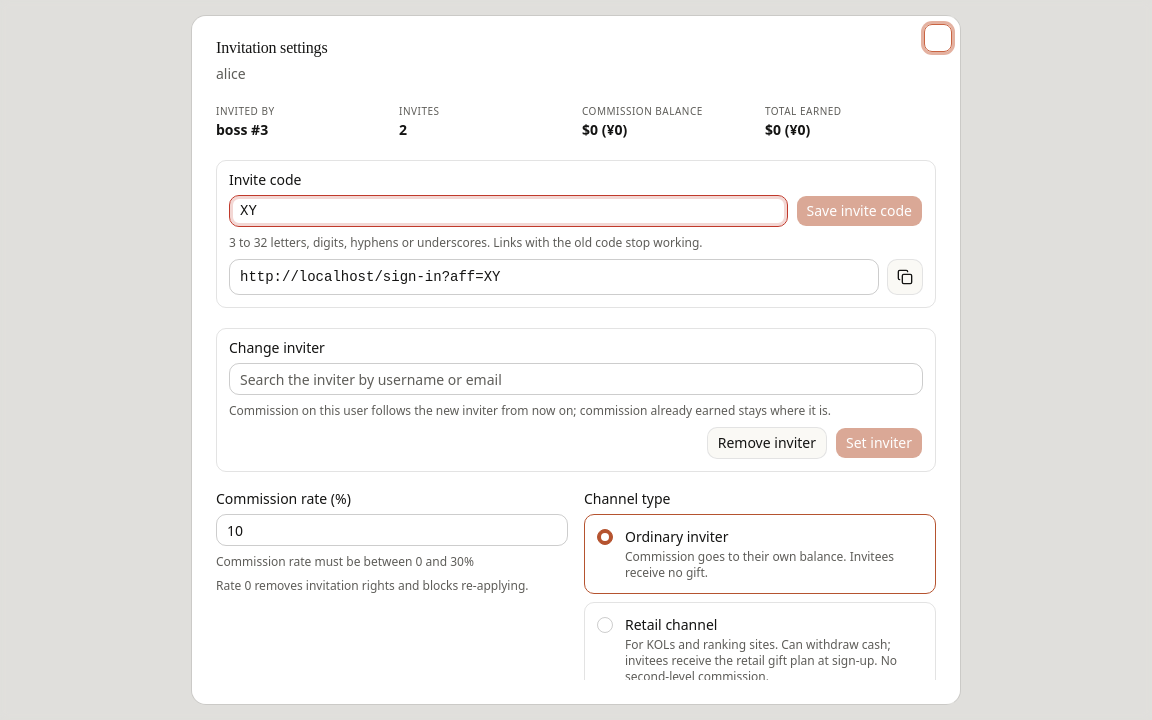
Test: finds a new inviter by email and binds the user to them
Expected: the button "Set inviter" is disabled, [835, 427, 923, 459]
Step 1. Type "carol@example" into the field labelled "Change inviter" → {"x": 576, "y": 379}, box [229, 363, 923, 395]
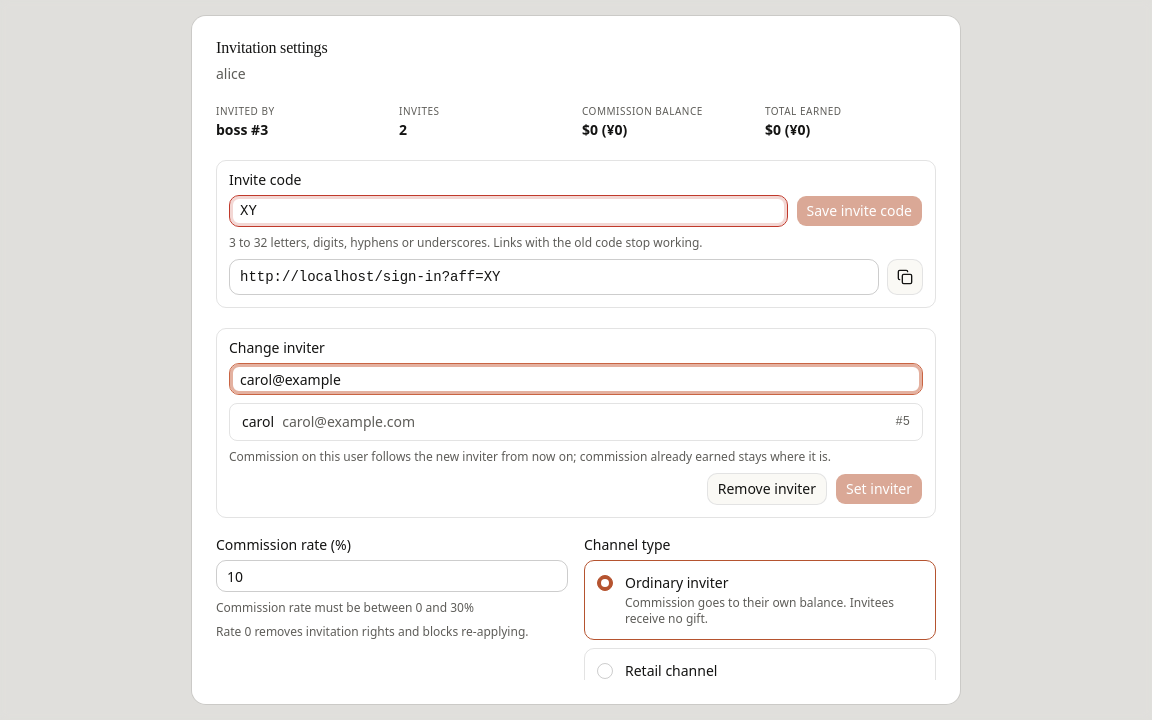
Step 2. Click the button "carol" → {"x": 258, "y": 422}, box [230, 404, 922, 440]
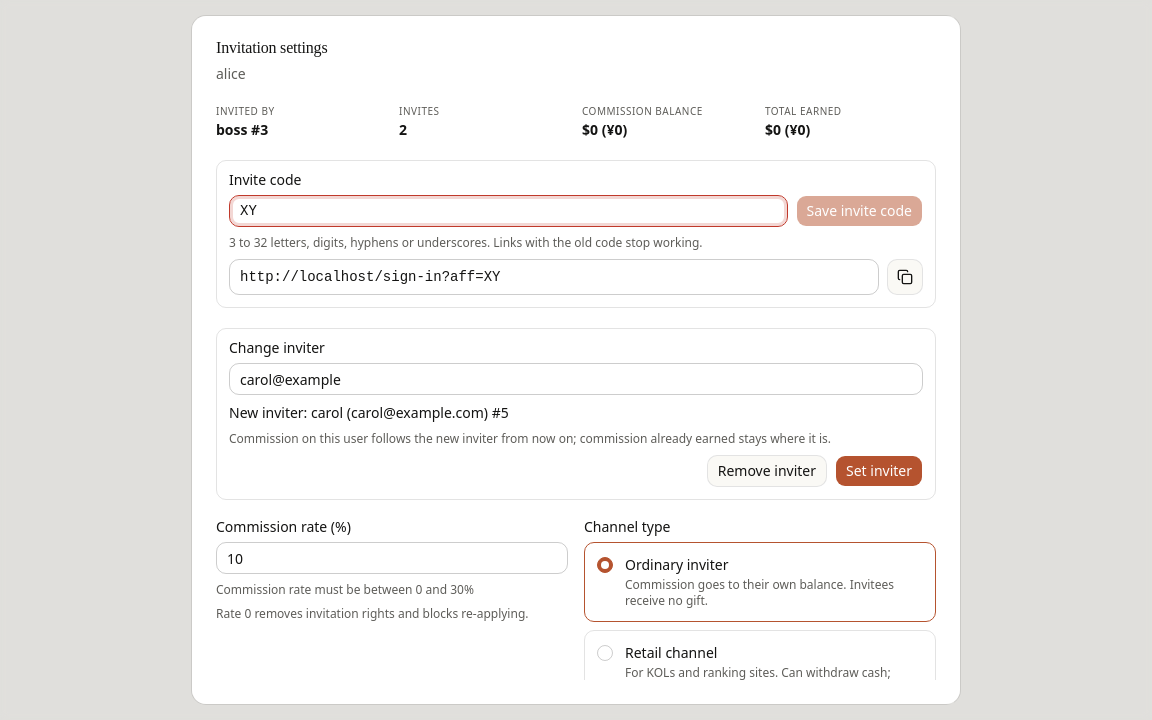
Step 3. Click the button "Set inviter" → {"x": 879, "y": 471}, box [835, 455, 923, 487]
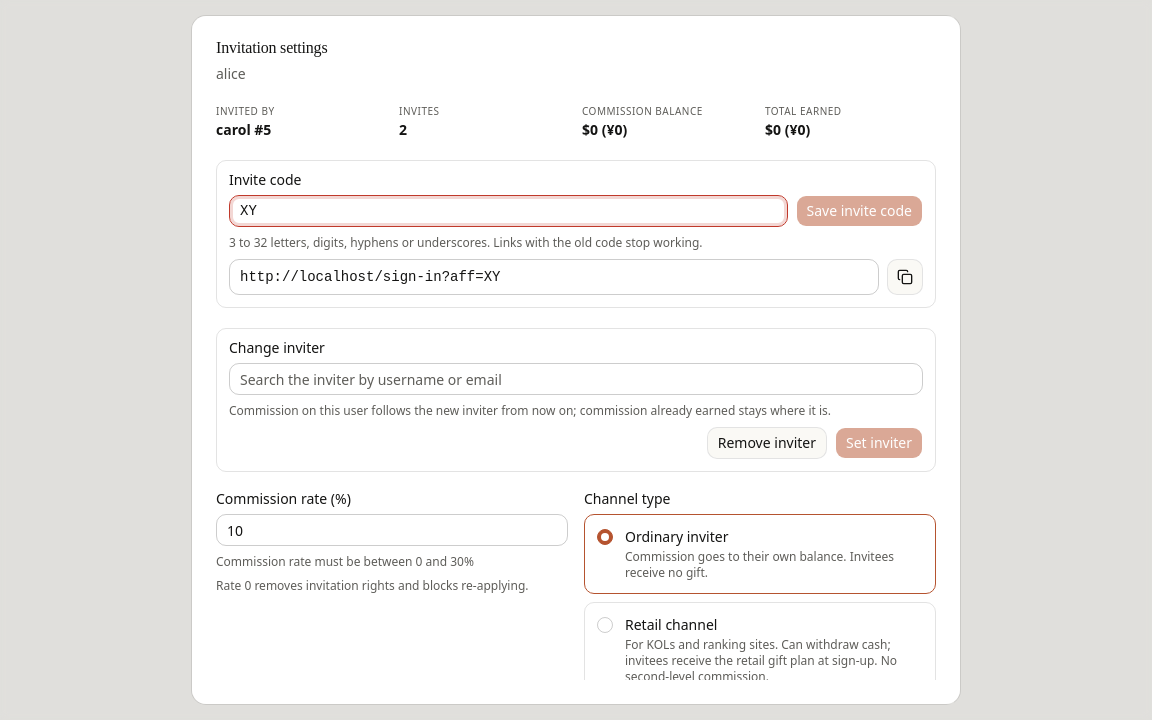
Expected: the text "carol #5" is shown, [216, 120, 271, 139]
